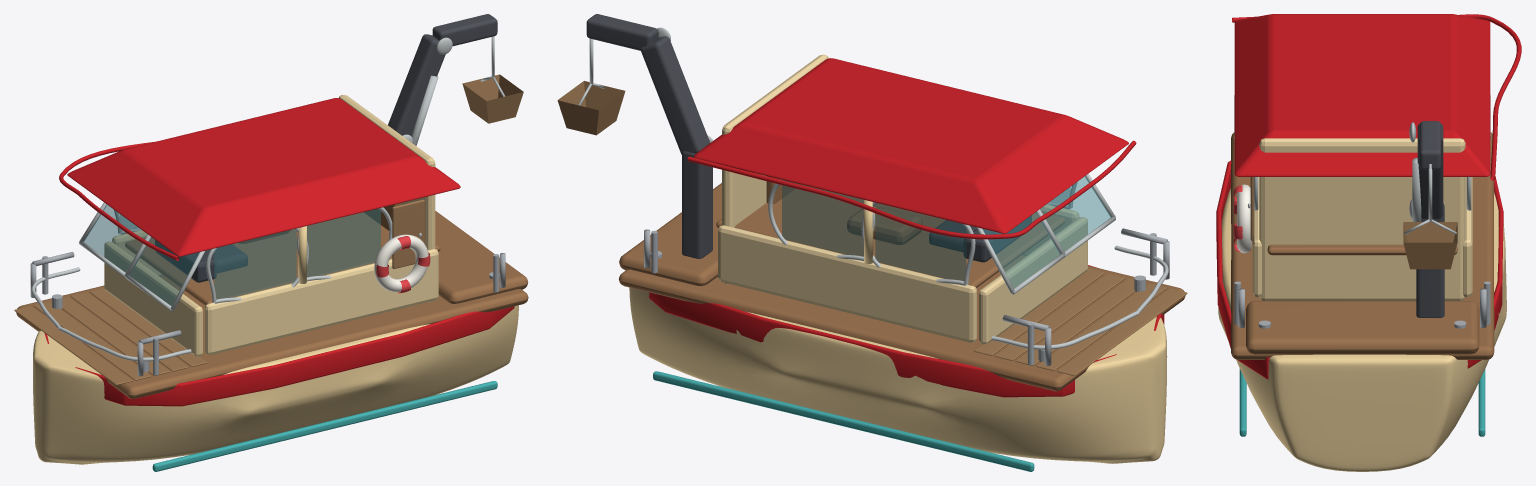
The model's file is boat-b-refined.glb.
The picture shows the model from 3 angles, left to right: view 1: azimuth 30°, elevation 25°; view 2: azimuth 150°, elevation 25°; view 3: azimuth 270°, elevation 25°; orthographic projection. The views are drawn at different scales.
Visible parts, largest first — view 1: B one-piece hipped red cabin roof, Cream faceted-curved displacement hull, Lower wheelhouse side wall, Flat timber deck, Visible interior floor, B continuous red rub rail, Low front wall, B clear side window, Open timber stern deck, B clear side window.001, Turquoise waterline, B crane rising arm (+17 smaller); view 2: B one-piece hipped red cabin roof, Cream faceted-curved displacement hull, Lower wheelhouse side wall.001, Flat timber deck, Visible interior floor, B continuous red rub rail.001, Low front wall, B clear side window.002, B clear side window.003, Turquoise waterline.001, B crane rising arm, Open timber stern deck (+16 smaller); view 3: B one-piece hipped red cabin roof, Cream faceted-curved displacement hull, Rear cream cabin bulkhead, Open timber stern deck, Flat timber deck, B open cargo bucket, B continuous red rub rail, Visible interior floor, B crane pedestal, B crane rising arm, B red roof perimeter, B crane horizontal jib (+7 smaller).
Boxes of the visible parts, box(x1,y1,x2,y2) form: B one-piece hipped red cabin roof: box(67, 98, 460, 256); Cream faceted-curved displacement hull: box(33, 305, 518, 464); Lower wheelhouse side wall: box(204, 249, 438, 354); Flat timber deck: box(16, 276, 528, 398); Visible interior floor: box(125, 212, 440, 305); B continuous red rub rail: box(75, 306, 514, 406); Low front wall: box(104, 241, 202, 356); B clear side window: box(214, 229, 296, 299); Open timber stern deck: box(435, 211, 528, 303); B clear side window.001: box(307, 208, 380, 277); Turquoise waterline: box(152, 381, 497, 471); B crane rising arm: box(388, 34, 445, 136); B one-piece hipped red cabin roof: box(694, 58, 1128, 233); Cream faceted-curved displacement hull: box(629, 287, 1167, 463); Lower wheelhouse side wall.001: box(718, 225, 976, 342); Flat timber deck: box(619, 255, 1185, 391); Visible interior floor: box(716, 184, 1064, 287); B continuous red rub rail.001: box(649, 292, 1116, 397); Low front wall: box(979, 217, 1087, 344); B clear side window.002: box(875, 203, 966, 281); B clear side window.003: box(782, 180, 863, 256); Turquoise waterline.001: box(653, 371, 1034, 471); B crane rising arm: box(640, 36, 709, 154); Open timber stern deck: box(619, 183, 721, 285); B one-piece hipped red cabin roof: box(1234, 14, 1490, 176); Cream faceted-curved displacement hull: box(1218, 187, 1506, 471); Rear cream cabin bulkhead: box(1259, 138, 1465, 300); Open timber stern deck: box(1246, 301, 1479, 354); Flat timber deck: box(1231, 132, 1494, 359); B open cargo bucket: box(1403, 222, 1457, 269); B continuous red rub rail: box(1216, 160, 1269, 379); Visible interior floor: box(1267, 244, 1457, 255); B crane pedestal: box(1416, 204, 1444, 317); B crane rising arm: box(1417, 123, 1443, 218); B red roof perimeter: box(1232, 14, 1521, 180); B crane horizontal jib: box(1419, 121, 1441, 169).
Bounding box in the file's own units: 4.83 × 2.82 × 2.25.
